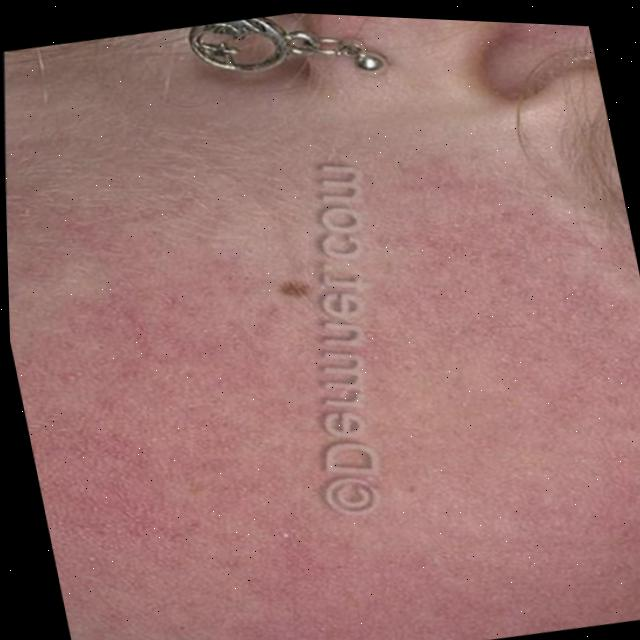Eczema: (29, 194, 586, 633)
